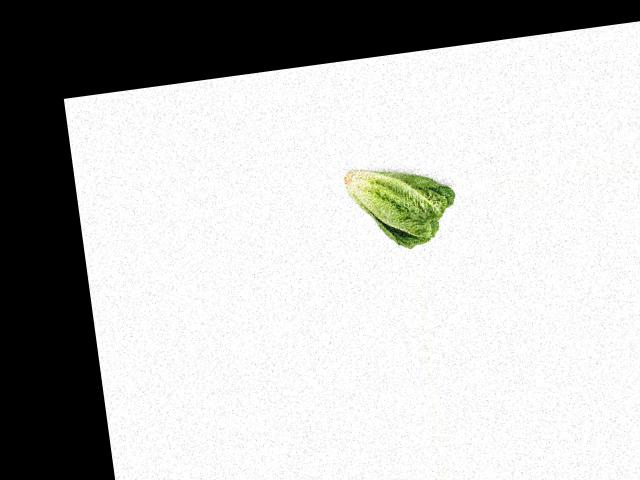lettuce: (340, 155, 460, 255)
